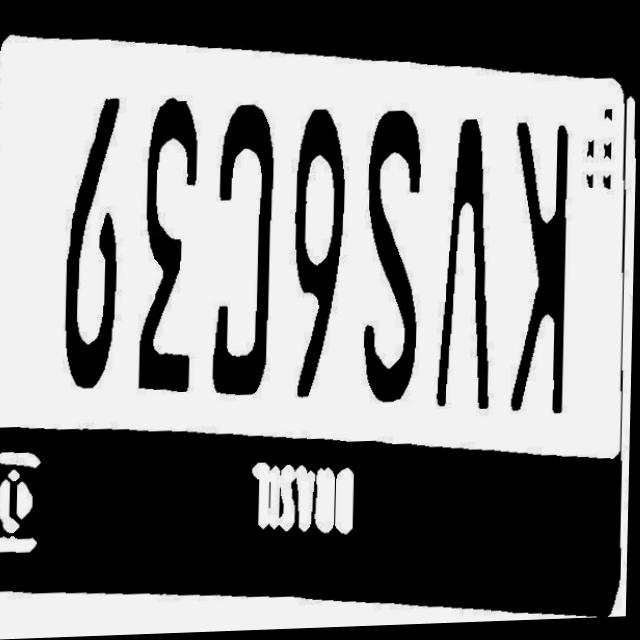3: (132, 86, 206, 407)
6: (285, 101, 352, 413)
9: (63, 95, 130, 395)
c: (209, 97, 281, 400)
k: (501, 114, 580, 436)
s: (351, 109, 426, 409)
v: (427, 118, 501, 414)
